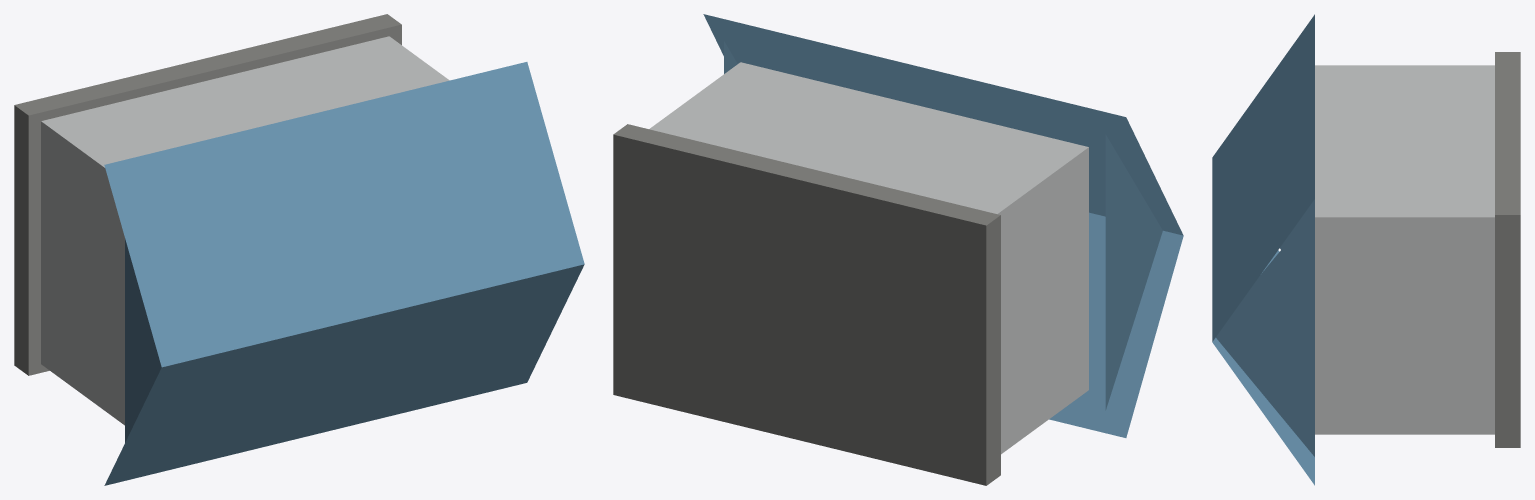
Rendered from house_himalayan_zinc.glb.
3 renders of one model, left to right at view 1: azimuth 30°, elevation 25°; view 2: azimuth 150°, elevation 25°; view 3: azimuth 270°, elevation 25°, orthographic. The views are drawn at different scales.
Bounding box in the file's own units: 10.2 × 7.4 × 7.2.
